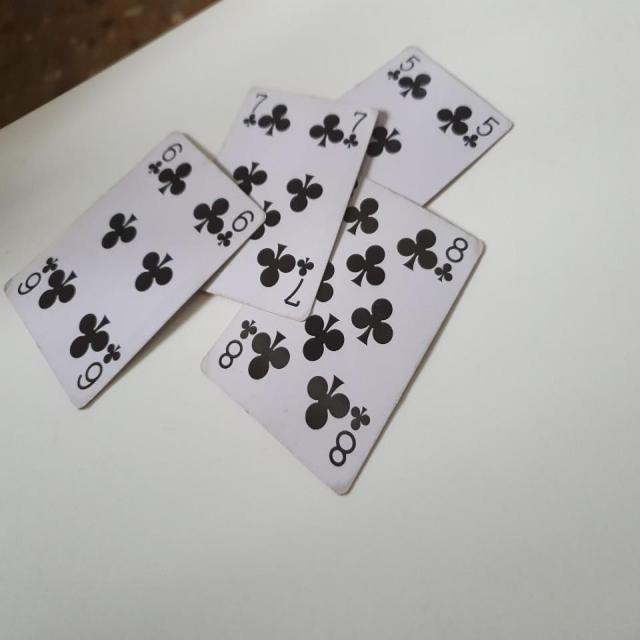5 Trefoils: (336, 40, 517, 207)
6 Trefoils: (1, 130, 265, 412)
7 Trefoils: (198, 84, 378, 321)
8 Trefoils: (198, 180, 484, 500)
